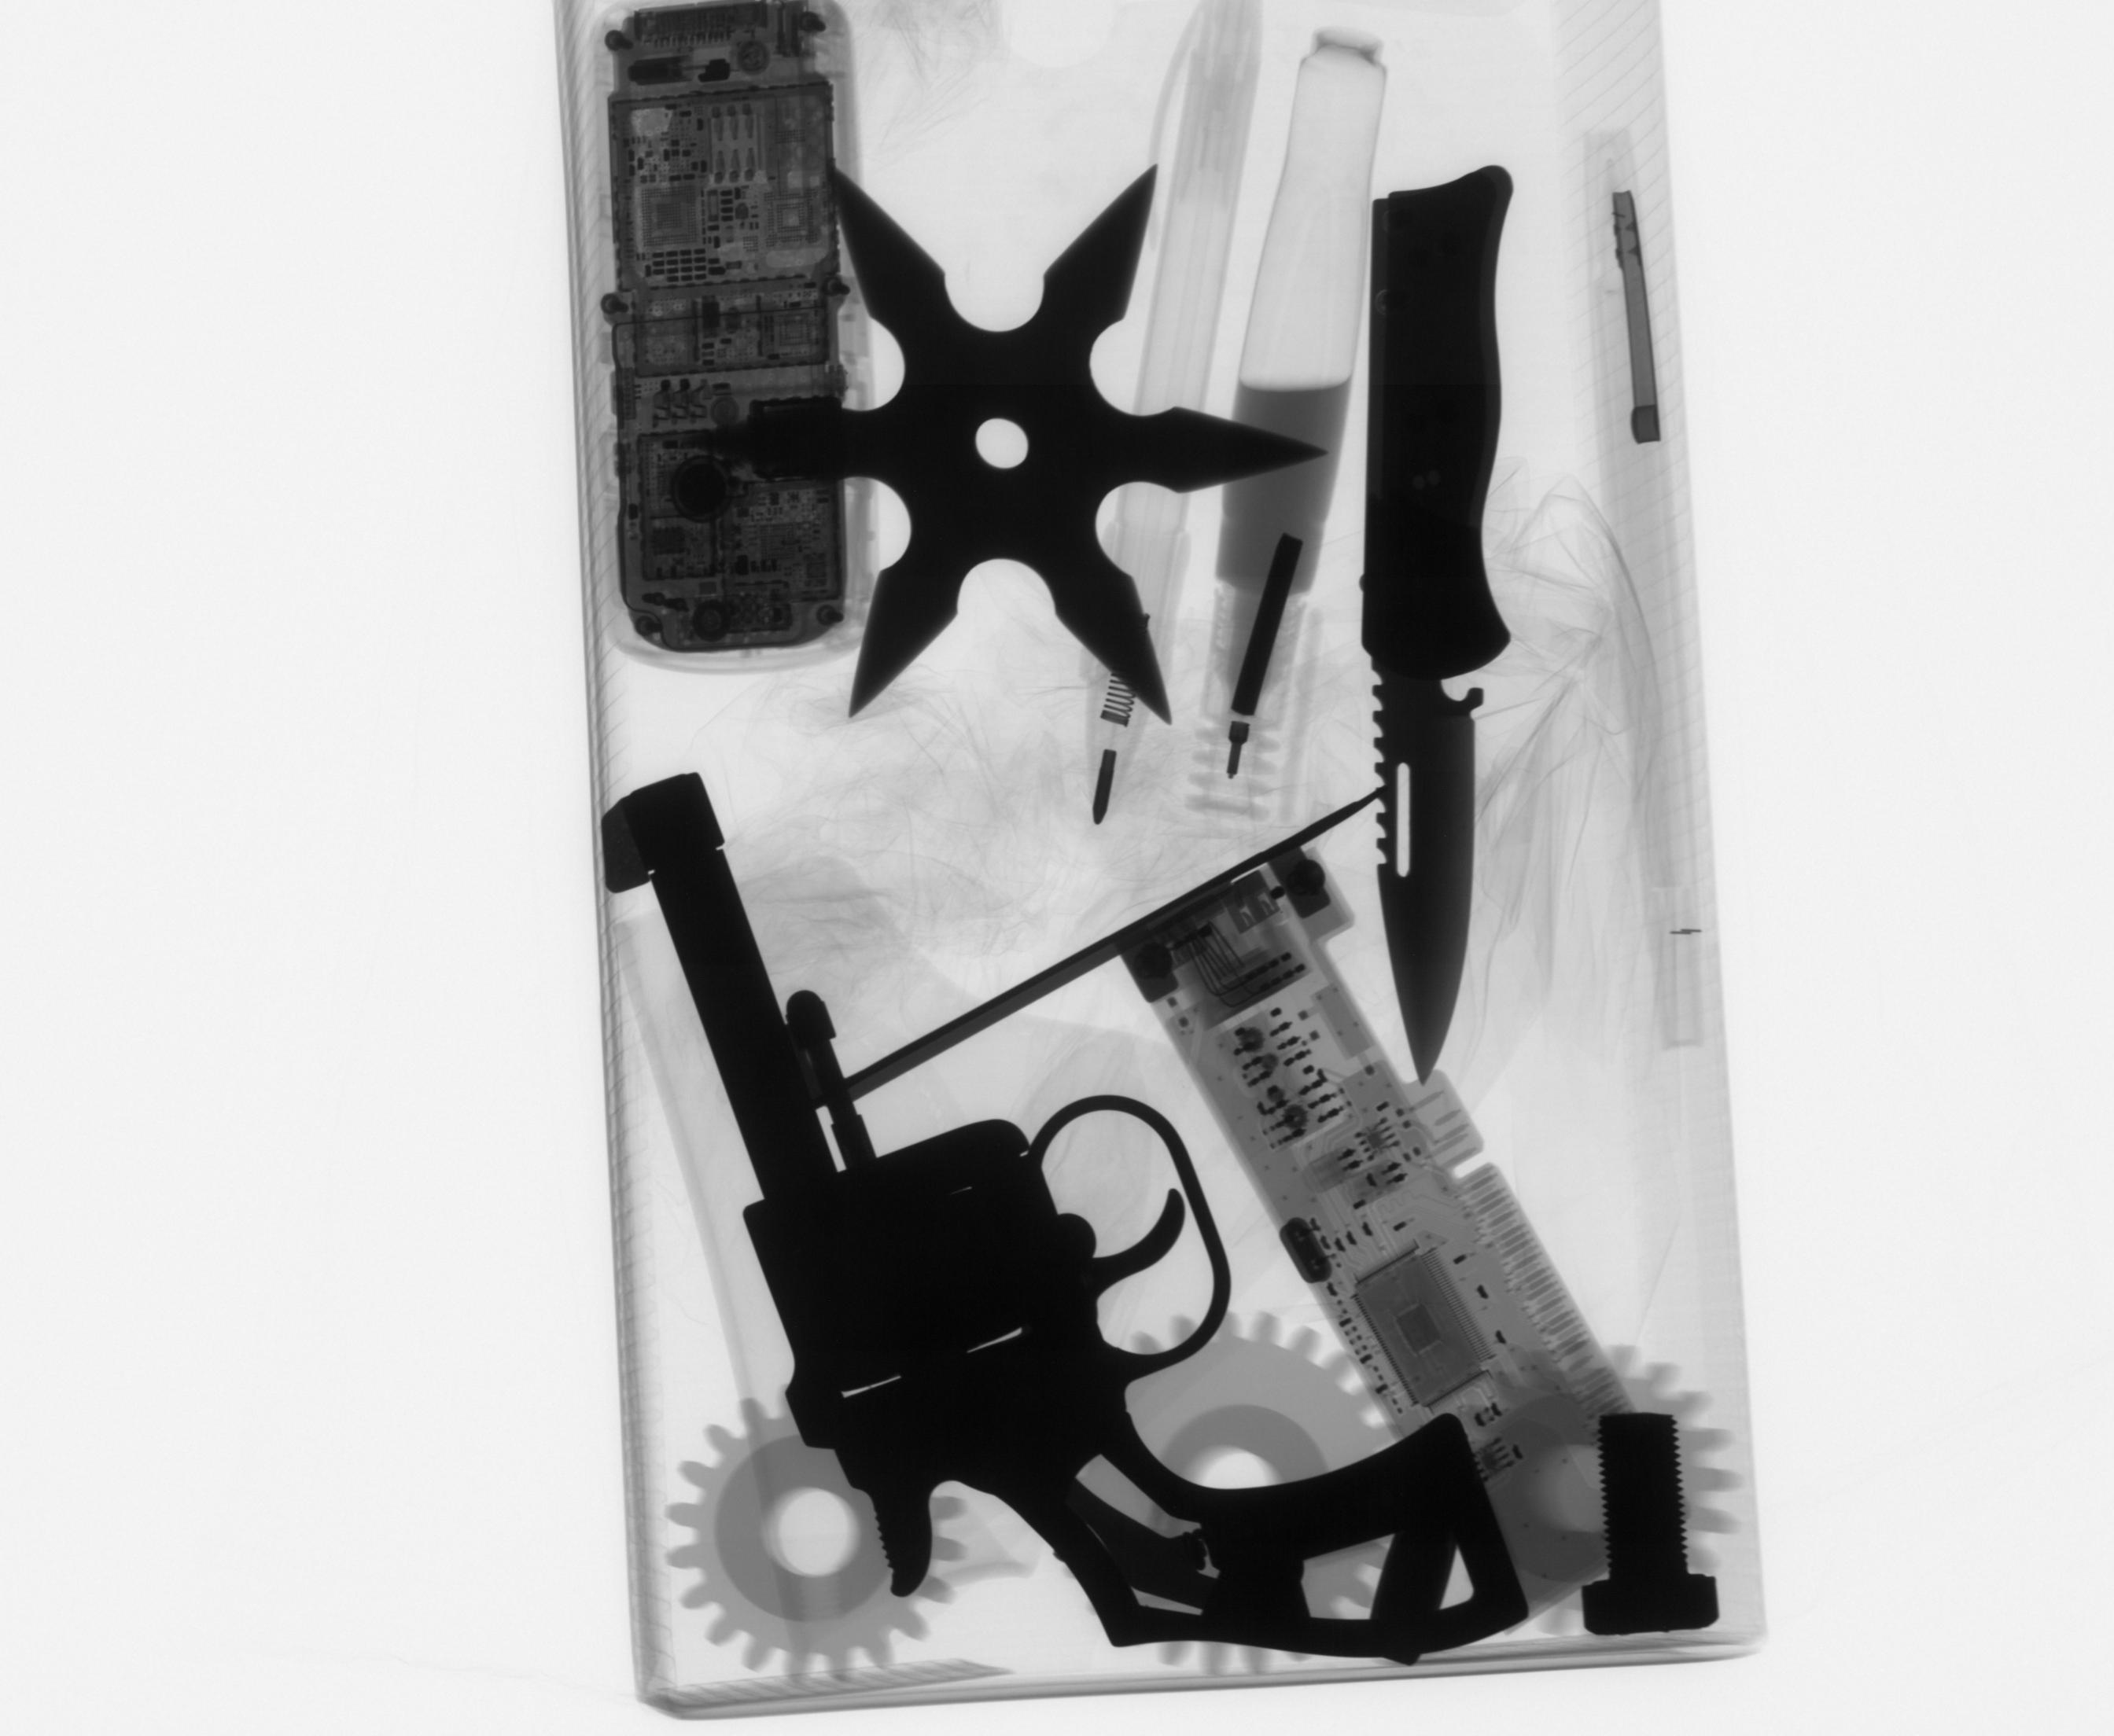Handgun: (596, 763, 1541, 1671)
Knife: (1347, 159, 1527, 1098)
Shuriken: (655, 153, 1336, 730)
